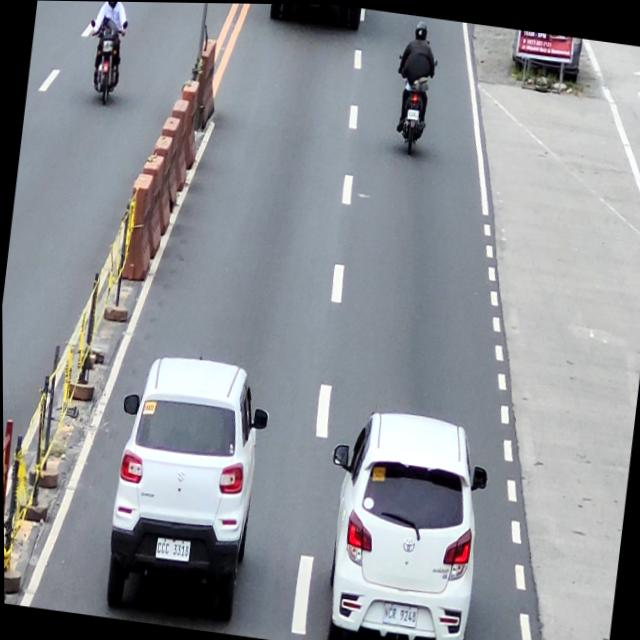Car: (98, 347, 275, 628), (309, 402, 495, 640)
License-Plate: (379, 600, 417, 627), (152, 537, 190, 561), (406, 107, 419, 119)
Motorcycle: (386, 48, 439, 156), (79, 15, 128, 105)
